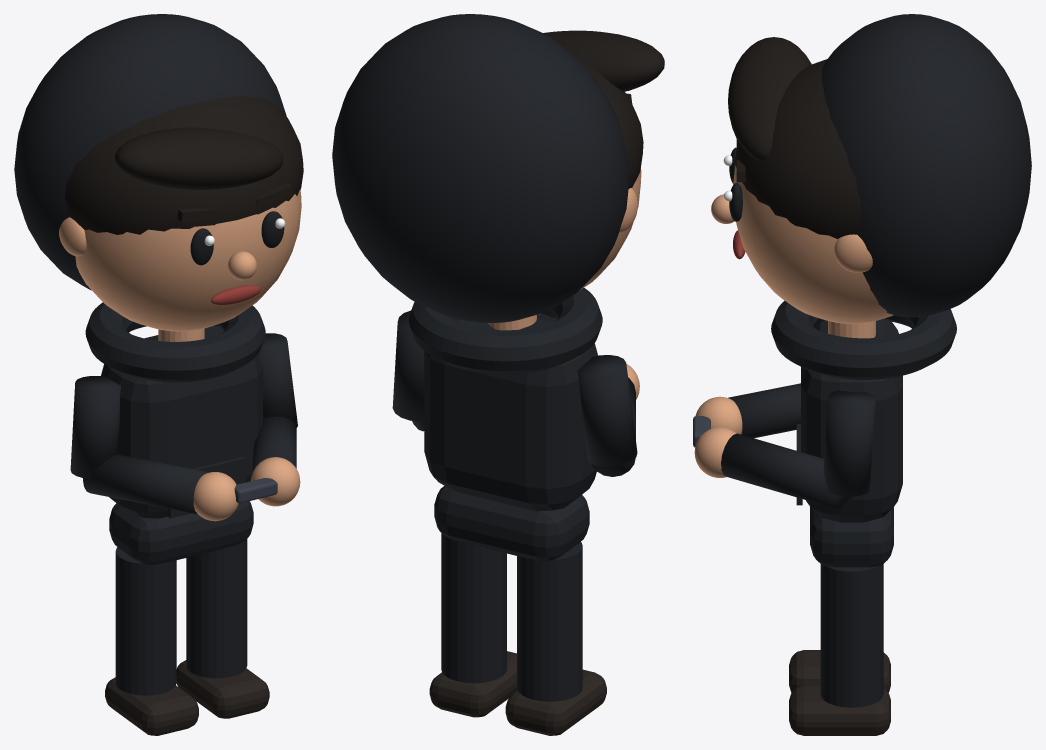
File: hacker.glb
3 views of the same model, side by side, from view 1: azimuth 30°, elevation 25°; view 2: azimuth 150°, elevation 25°; view 3: azimuth 270°, elevation 25° (orthographic). The views are drawn at different scales.
Visible parts, largest first — view 1: Sphere.013, Sphere.002, Sphere.011, Cube.003, Torus, Sphere.012, Cylinder, Cylinder.001, Cube.002, Cylinder.003, Cylinder.002, Cube (+15 smaller); view 2: Sphere.013, Cube.003, Cylinder, Torus, Cylinder.001, Cube.002, Cylinder.002, Sphere.012, Cube, Cube.001, Cylinder.004, Sphere.011 (+2 smaller); view 3: Sphere.013, Sphere.011, Sphere.002, Cylinder.001, Torus, Cube.003, Sphere.012, Cylinder.005, Cylinder.004, Cube.002, Cube.001, Cylinder.003 (+5 smaller).
Part boxes in pixels (<box>): Sphere.013: <box>14,14,286,290</box>; Sphere.002: <box>75,190,301,331</box>; Sphere.011: <box>64,96,303,234</box>; Cube.003: <box>101,325,262,518</box>; Torus: <box>85,302,265,382</box>; Sphere.012: <box>115,127,282,189</box>; Cylinder: <box>115,547,176,695</box>; Cylinder.001: <box>186,539,247,678</box>; Cube.002: <box>109,501,253,564</box>; Cylinder.003: <box>83,454,208,514</box>; Cylinder.002: <box>70,376,120,478</box>; Cube: <box>105,677,198,735</box>; Sphere.013: <box>332,14,629,322</box>; Cube.003: <box>424,314,597,511</box>; Cylinder: <box>517,542,582,701</box>; Torus: <box>409,288,602,373</box>; Cylinder.001: <box>441,533,506,683</box>; Cube.002: <box>434,485,589,561</box>; Cylinder.002: <box>577,355,637,467</box>; Sphere.012: <box>543,30,664,91</box>; Cube: <box>505,669,606,735</box>; Cube.001: <box>429,651,517,717</box>; Cylinder.004: <box>392,310,424,421</box>; Sphere.011: <box>564,47,643,188</box>; Sphere.013: <box>821,14,1031,317</box>; Sphere.011: <box>735,59,860,238</box>; Sphere.002: <box>733,165,893,323</box>; Cylinder.001: <box>820,564,883,707</box>; Torus: <box>771,300,956,379</box>; Cube.003: <box>801,318,902,522</box>; Sphere.012: <box>728,37,811,160</box>; Cylinder.005: <box>721,433,852,510</box>; Cylinder.004: <box>823,390,875,496</box>; Cube.002: <box>810,507,893,567</box>; Cube.001: <box>789,685,890,735</box>; Cylinder.003: <box>728,383,800,438</box>.
Size of the model in its own units: 0.9964 by 2.51 by 1.13.
